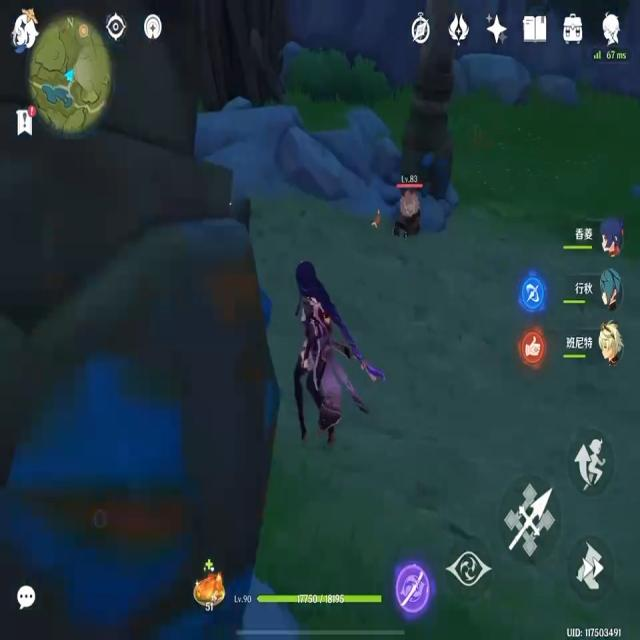genshin-hilichurls: (394, 186, 424, 240)
